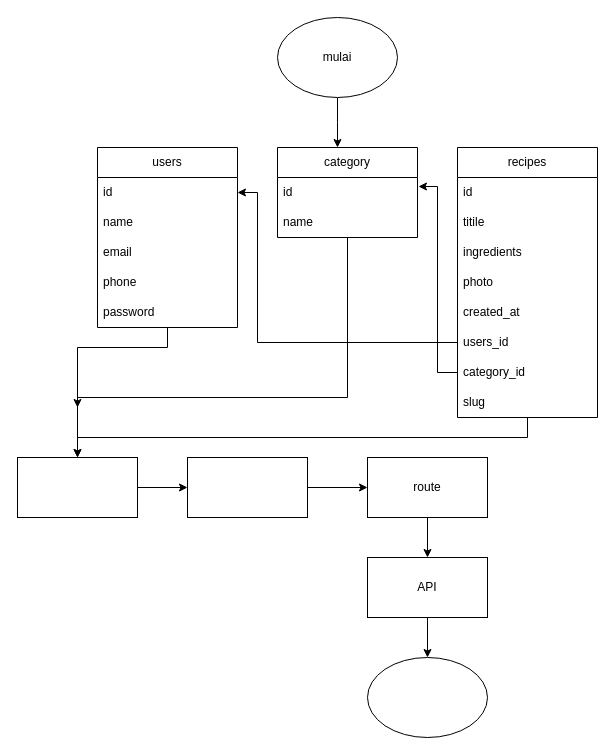
The diagram is 615 pixels wide and 755 high, and some of its shapes have lost their labels. Each missing label, with the centre of its shape:
"controller" belongs at point (247, 487).
"module" belongs at point (77, 487).
"selesai" belongs at point (427, 697).
